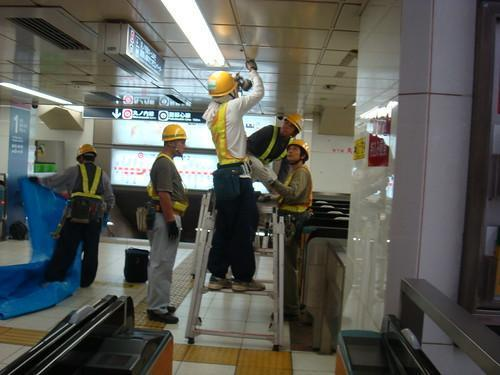vest: (208, 92, 246, 169), (146, 153, 192, 213), (278, 163, 317, 214), (254, 126, 298, 161), (71, 165, 105, 199)
